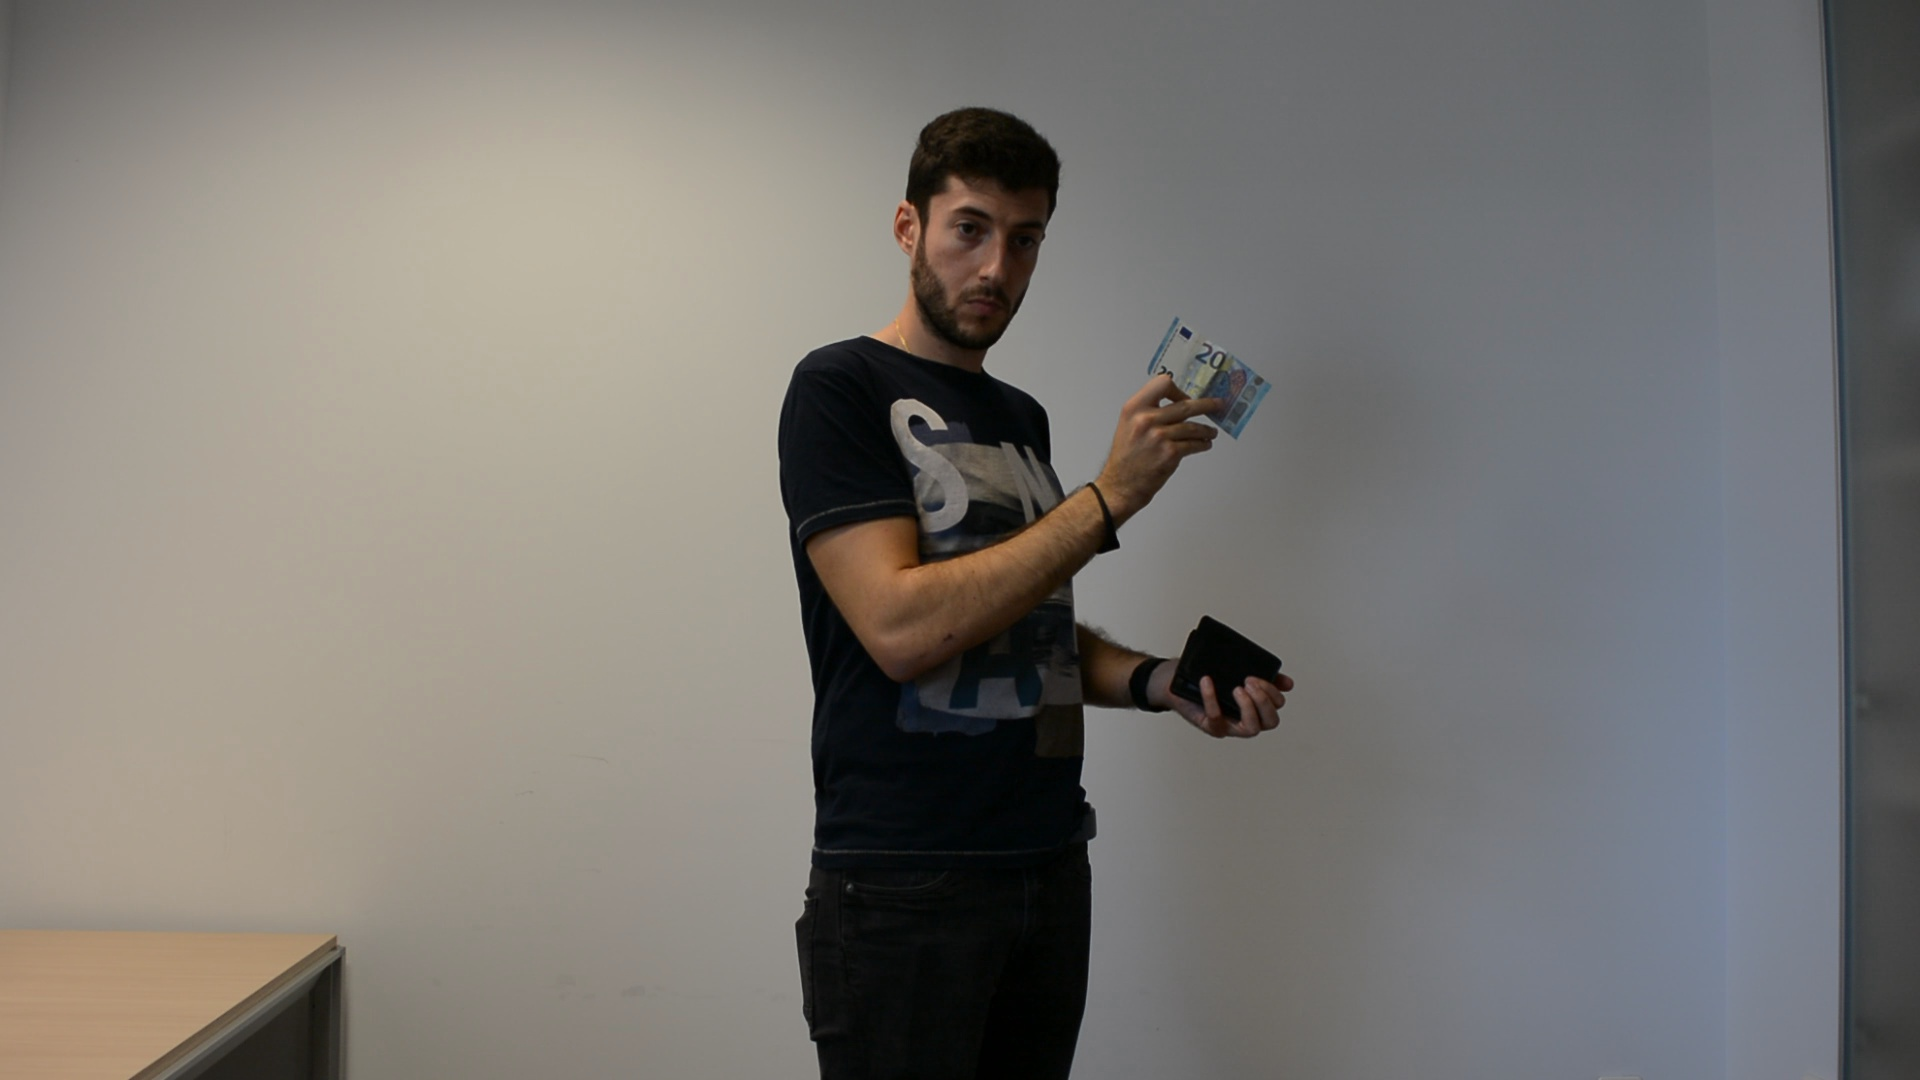billete: (1142, 313, 1275, 440)
monedero: (1167, 612, 1291, 727)
